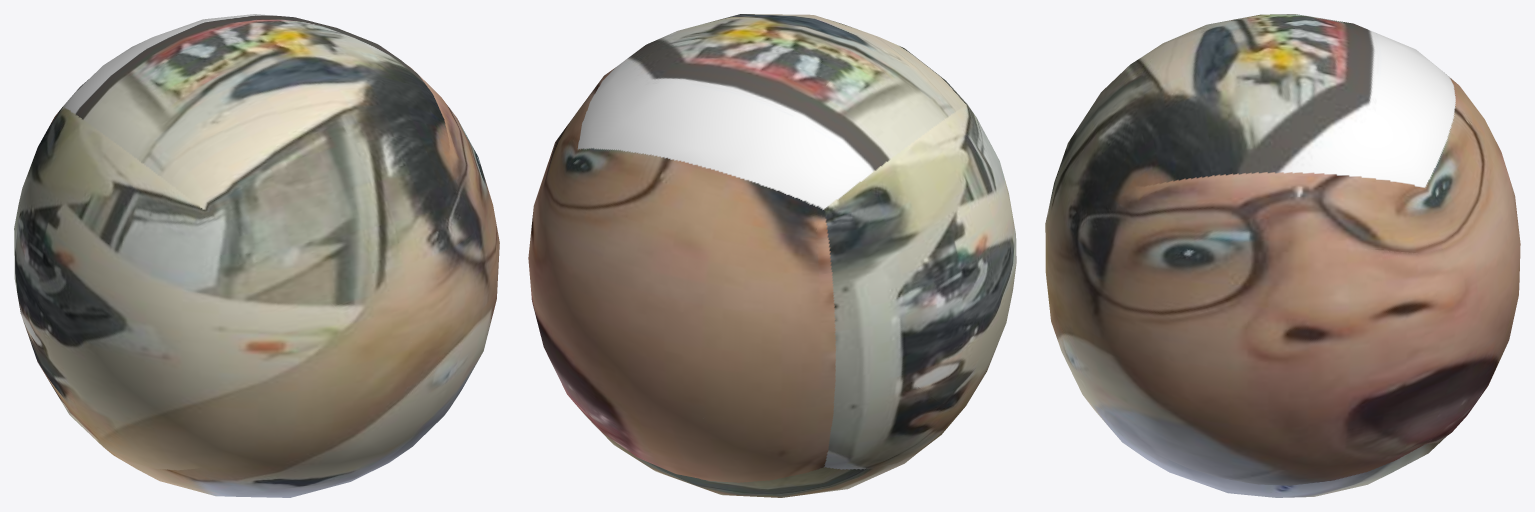
File: Project.obj
The picture shows the model from 3 angles, left to right: view 1: azimuth 30°, elevation 25°; view 2: azimuth 150°, elevation 25°; view 3: azimuth 270°, elevation 25°; orthographic projection.
Visible parts, largest first — view 1: Quad_Sphere; view 2: Quad_Sphere; view 3: Quad_Sphere.
Part boxes in pixels (x1=…): Quad_Sphere: x1=14, y1=14, x2=499, y2=497; Quad_Sphere: x1=528, y1=14, x2=1016, y2=497; Quad_Sphere: x1=1045, y1=14, x2=1520, y2=497.
Bounding box in the file's own units: 0.8407 × 0.8381 × 0.8371.
Materials: 1 (1 with a texture image).
